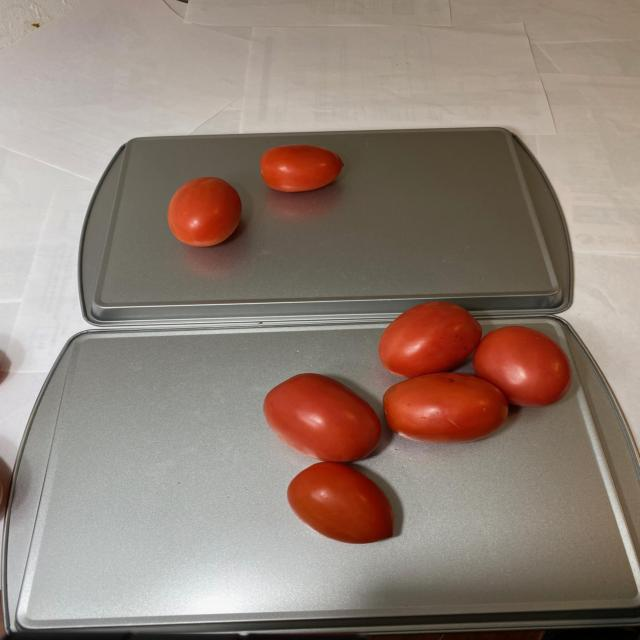tomato: (264, 304, 576, 548), (169, 144, 347, 254)
